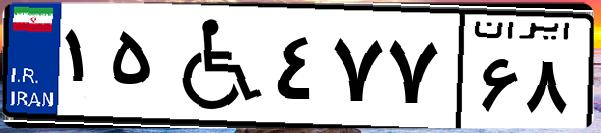1: (57, 26, 110, 100)
4: (270, 28, 330, 110)
5: (110, 28, 158, 98)
6: (475, 38, 525, 113)
7: (385, 28, 445, 110), (330, 28, 385, 110)
8: (525, 38, 570, 115)
ژ (معلولین و جانبازان): (158, 12, 270, 120)
